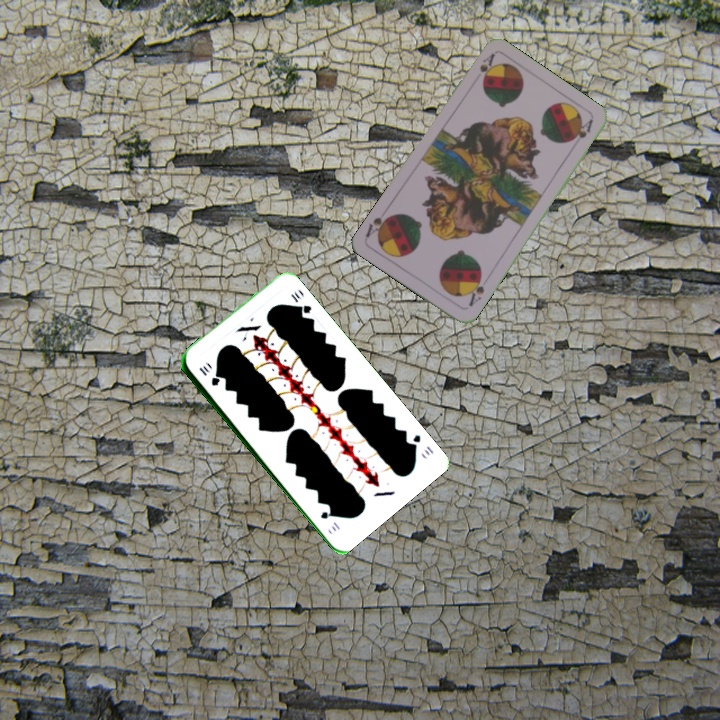G10: (405, 431, 436, 458), (195, 362, 221, 388)
SA: (464, 271, 487, 309), (475, 50, 498, 86)
